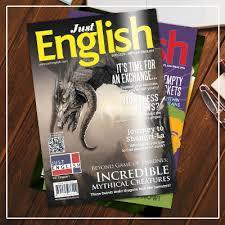Printing industry: (12, 8, 204, 214)
